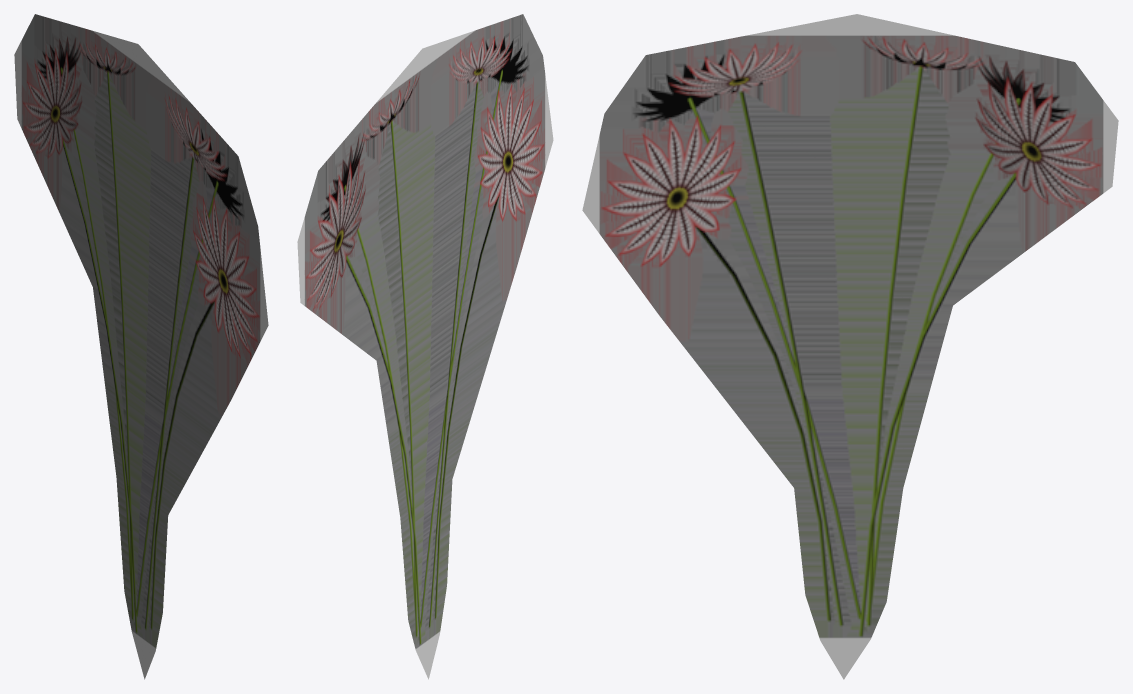
File: flor5.fbx
The picture shows the model from 3 angles, left to right: view 1: azimuth 30°, elevation 25°; view 2: azimuth 150°, elevation 25°; view 3: azimuth 270°, elevation 25°; orthographic projection. The views are drawn at different scales.
Parts seen in each view (by area): view 1: flor5; view 2: flor5; view 3: flor5.
Boxes of the visible parts, x1=… form: flor5: x1=14, y1=14, x2=268, y2=679; flor5: x1=297, y1=14, x2=553, y2=679; flor5: x1=582, y1=14, x2=1118, y2=679.
Size of the model in its own units: 2.65e-15 by 9.19 by 6.71.
